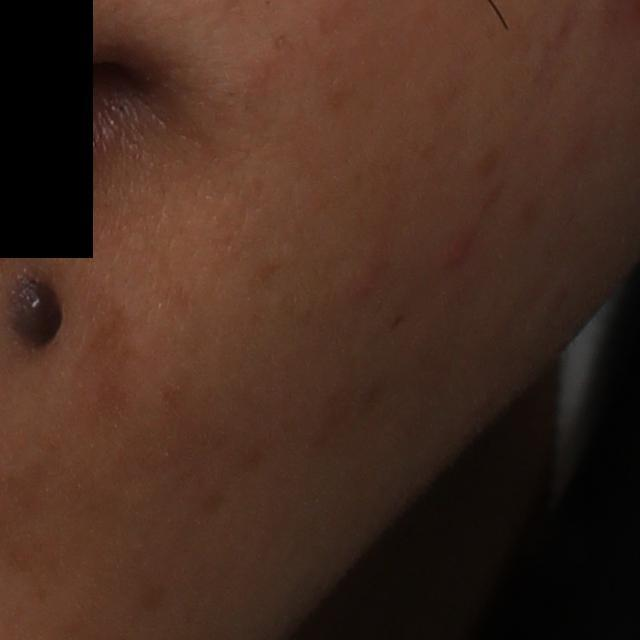nevus: (11, 272, 66, 353)
papule: (441, 228, 480, 265)
